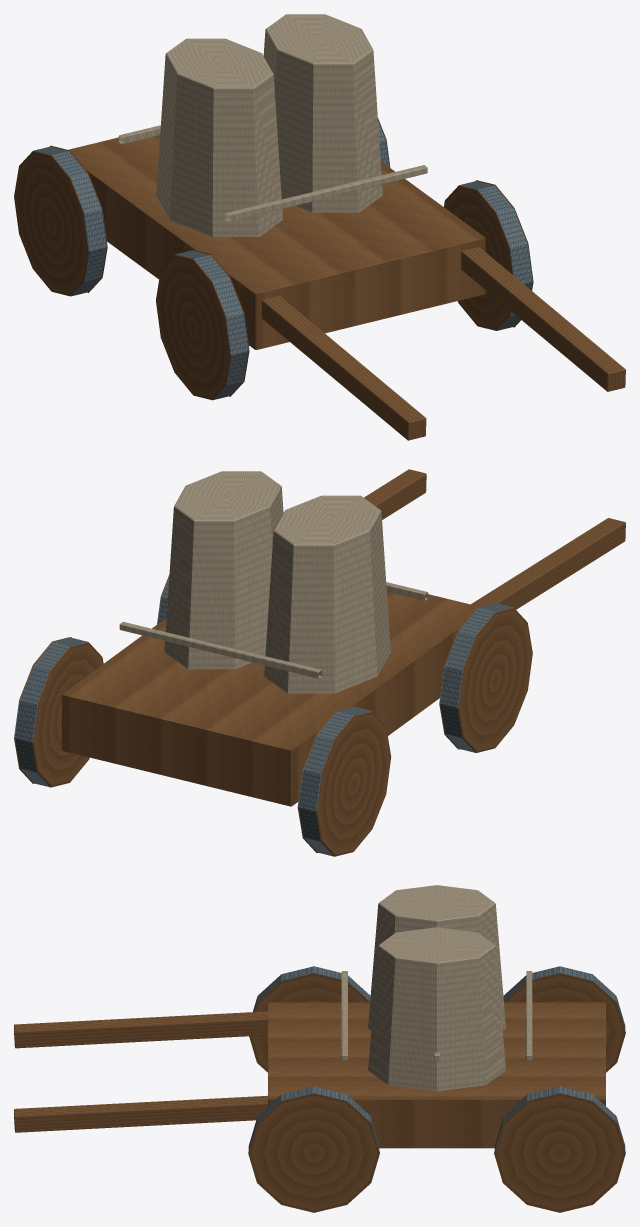
The model's file is unit-transport-lod0.glb.
The picture shows the model from 3 angles, top to bottom: view 1: azimuth 30°, elevation 25°; view 2: azimuth 150°, elevation 25°; view 3: azimuth 270°, elevation 25°; orthographic projection. The views are drawn at different scales.
Bounding box in the file's own units: 0.394 × 0.3209 × 0.7966.
Materials: 1 (1 with a texture image).
